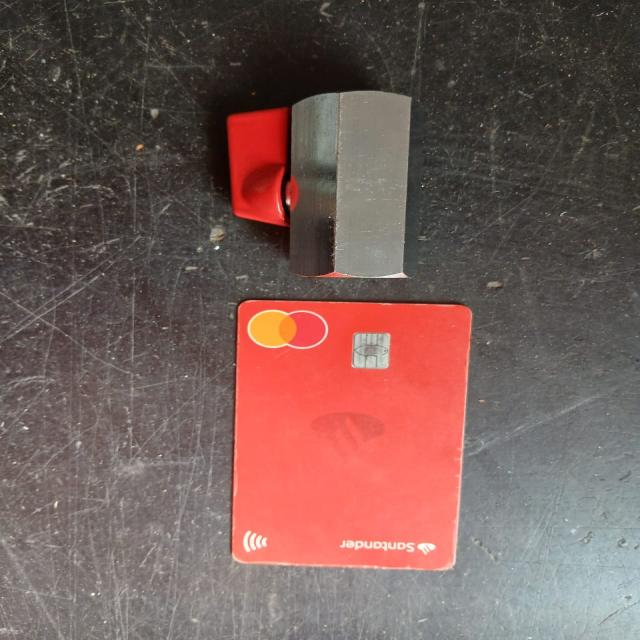cartao: (234, 301, 474, 569)
rosca_interna: (227, 91, 413, 280)
